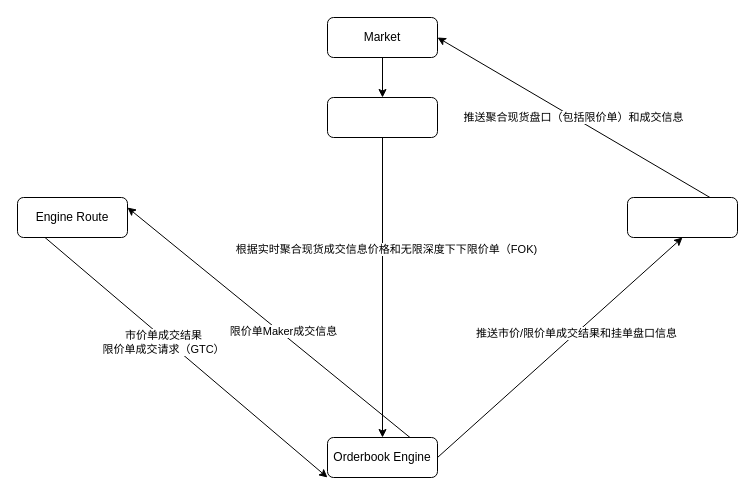
The diagram is 755 pixels wide and 503 high, and some of its shapes have lost their labels. The centre of each missing label's shape, as x and y in pixels:
"Market Proxy" goes at pixel 382 117.
"Orderbook Combo" goes at pixel 682 217.
